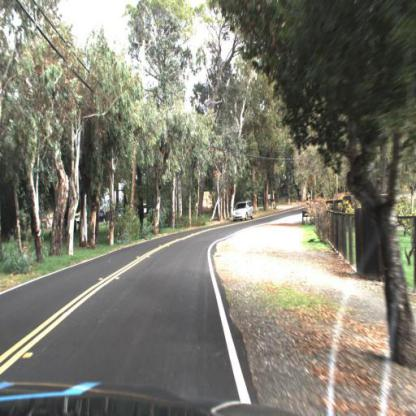car: (229, 195, 258, 230)
